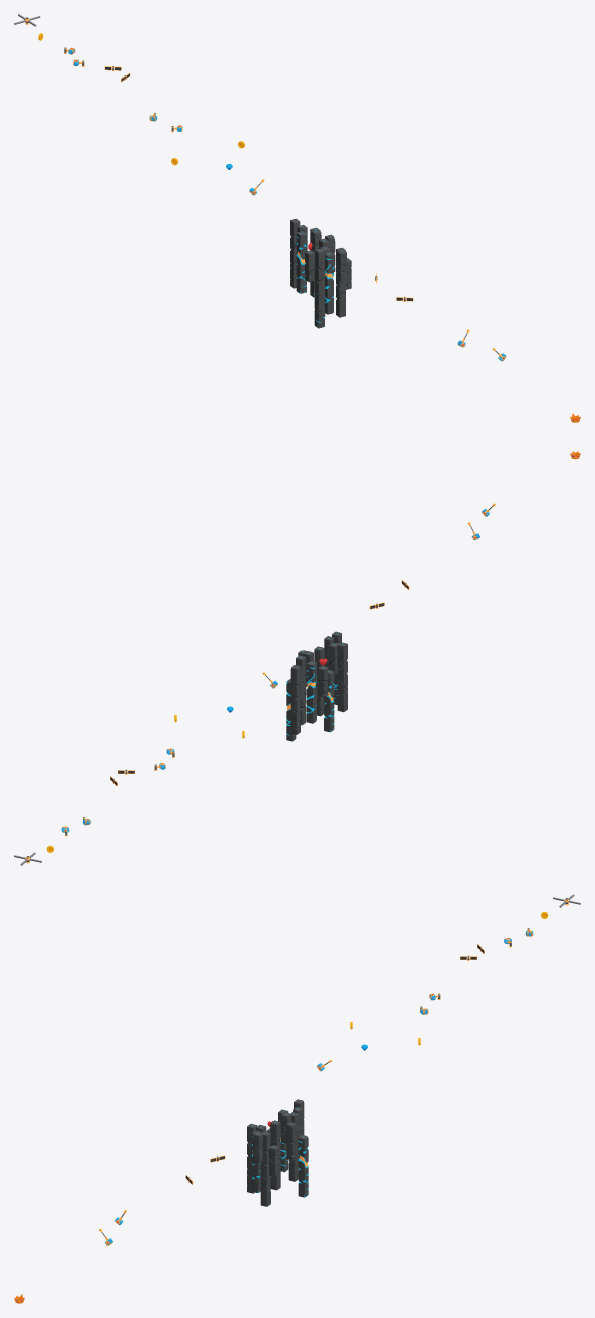
Rendered from underworld2_obstacles.glb.
The picture shows the model from 3 angles, top to bottom: view 1: azimuth 30°, elevation 25°; view 2: azimuth 150°, elevation 25°; view 3: azimuth 330°, elevation 25°; orthographic projection.
Parts seen in each view (by area): view 1: pillar_004.003, pillar_002.001, pillar_002.003, pillar_004.001; view 2: pillar_004.003, pillar_004.001, pillar_002.001, pillar_002.004; view 3: pillar_002.002, pillar_004.005.
Part boxes in pixels (<box>): pillar_004.003: <box>315,248,325,318</box>; pillar_002.001: <box>296,231,306,293</box>; pillar_002.003: <box>324,252,333,314</box>; pillar_004.001: <box>290,218,300,288</box>; pillar_004.003: <box>337,642,347,712</box>; pillar_004.001: <box>290,665,300,734</box>; pillar_002.001: <box>306,661,316,723</box>; pillar_002.004: <box>324,669,334,732</box>; pillar_002.002: <box>298,1135,308,1197</box>; pillar_004.005: <box>260,1131,270,1201</box>.
Size of the model in its own units: 21.37 by 29.64 by 286.
Materials: 4 (4 with a texture image).
